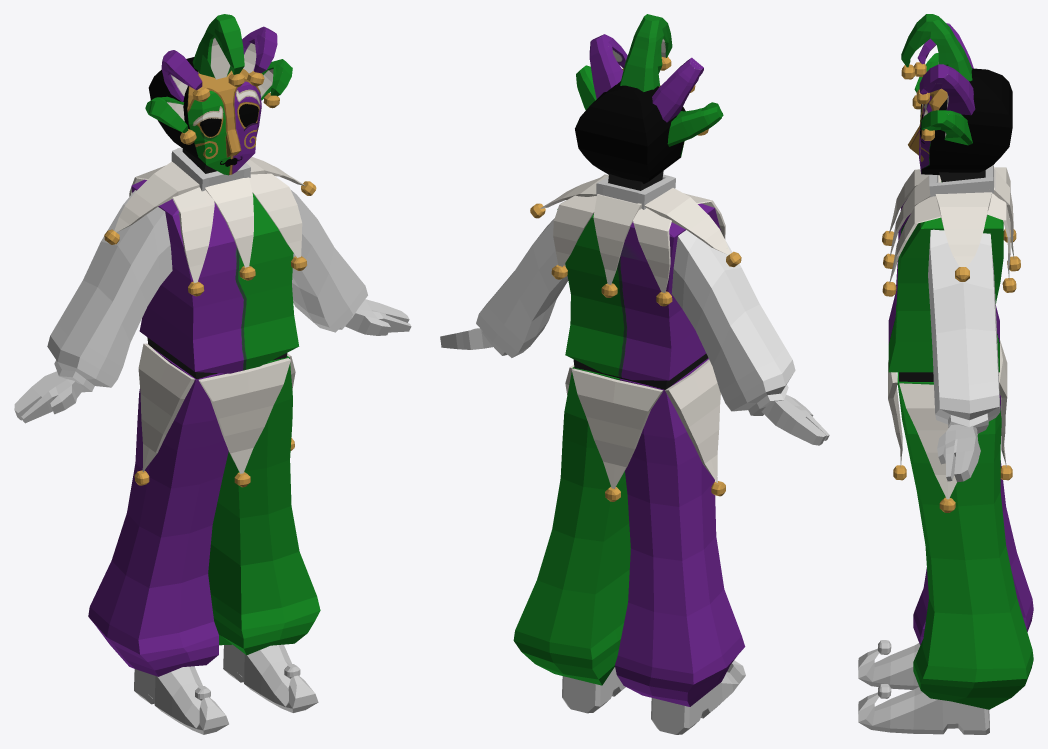
The model's file is Jesterbodyblend.fbx.
The picture shows the model from 3 angles, left to right: view 1: azimuth 30°, elevation 25°; view 2: azimuth 150°, elevation 25°; view 3: azimuth 270°, elevation 25°; orthographic projection.
Parts seen in each view (by area): view 1: Cube.001, Cube.007, Cube.043, Cube, Cube.008, Cube.004, Cube.006, Cube.003, Cube.033, Cube.014, Cube.029, Cube.032 (+2 smaller); view 2: Cube.001, Cube.043, Cube.007, Cube, Cube.008, Cube.004, Cube.006, Cube.003, Cube.033, Cube.032, Cube.029, Cube.014 (+2 smaller); view 3: Cube.043, Cube.003, Cube.007, Cube.004, Cube, Cube.006, Cube.014, Cube.033, Cube.001, Cube.032, Cube.005, Cube.029 (+2 smaller).
Boxes of the visible parts, bbox=[...] form: Cube.001: bbox=[88, 348, 228, 676]; Cube.007: bbox=[114, 157, 305, 473]; Cube.043: bbox=[208, 355, 320, 655]; Cube: bbox=[131, 149, 299, 373]; Cube.008: bbox=[47, 190, 172, 392]; Cube.004: bbox=[14, 147, 411, 734]; Cube.006: bbox=[148, 57, 261, 175]; Cube.003: bbox=[291, 190, 367, 332]; Cube.033: bbox=[192, 14, 244, 79]; Cube.014: bbox=[104, 71, 316, 487]; Cube.029: bbox=[161, 50, 202, 101]; Cube.032: bbox=[242, 26, 277, 73]; Cube.001: bbox=[615, 358, 745, 706]; Cube.043: bbox=[513, 367, 630, 685]; Cube.007: bbox=[540, 174, 730, 488]; Cube: bbox=[557, 171, 720, 380]; Cube.008: bbox=[671, 230, 795, 415]; Cube.004: bbox=[440, 174, 829, 734]; Cube.006: bbox=[575, 81, 685, 183]; Cube.003: bbox=[476, 218, 568, 357]; Cube.033: bbox=[620, 14, 672, 91]; Cube.032: bbox=[589, 34, 627, 98]; Cube.029: bbox=[652, 57, 703, 122]; Cube.014: bbox=[530, 57, 741, 501]; Cube.043: bbox=[897, 372, 1033, 709]; Cube.003: bbox=[928, 229, 1000, 433]; Cube.007: bbox=[888, 167, 1014, 499]; Cube.004: bbox=[858, 165, 994, 734]; Cube: bbox=[888, 170, 1003, 372]; Cube.006: bbox=[908, 68, 1012, 174]; Cube.014: bbox=[882, 62, 1020, 512]; Cube.033: bbox=[901, 14, 972, 81]; Cube.001: bbox=[913, 394, 1033, 645]; Cube.032: bbox=[919, 64, 975, 115]; Cube.005: bbox=[921, 110, 972, 145]; Cube.029: bbox=[917, 23, 973, 68].
Size of the model in its own units: 168 by 283 by 65.23.
